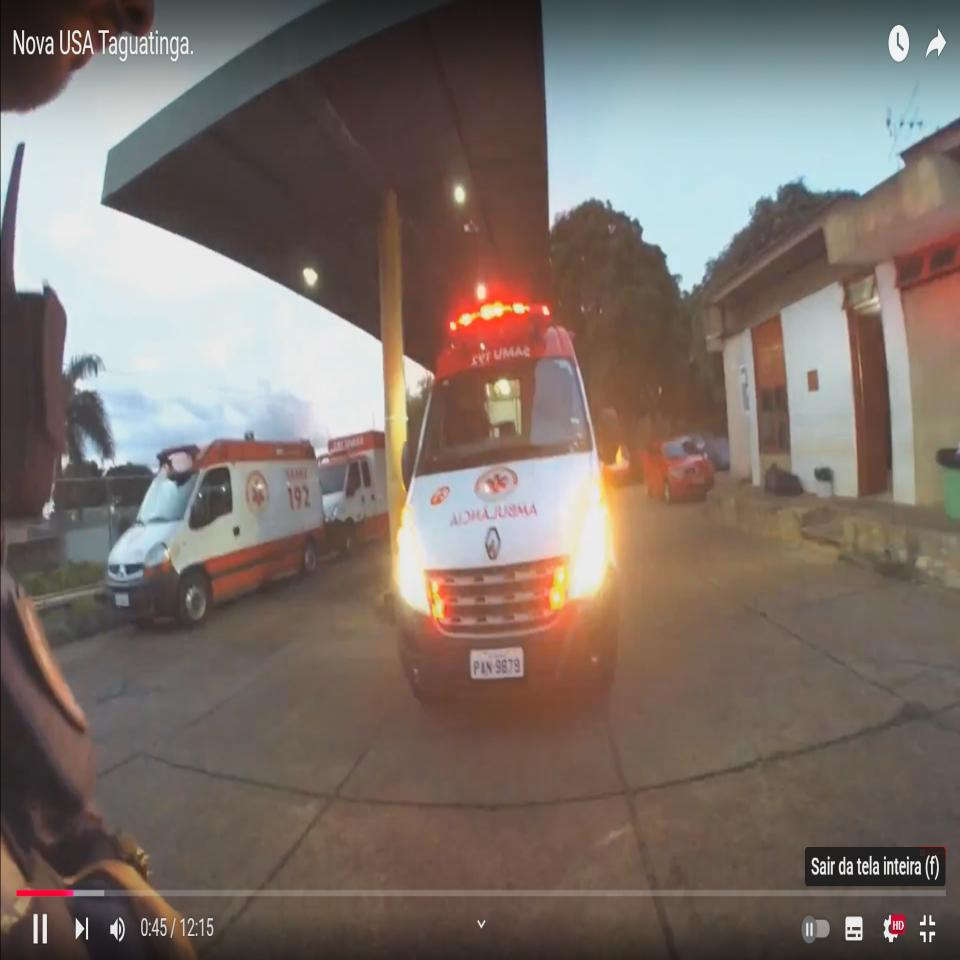bombeiro: (391, 300, 626, 712), (105, 437, 332, 632)
